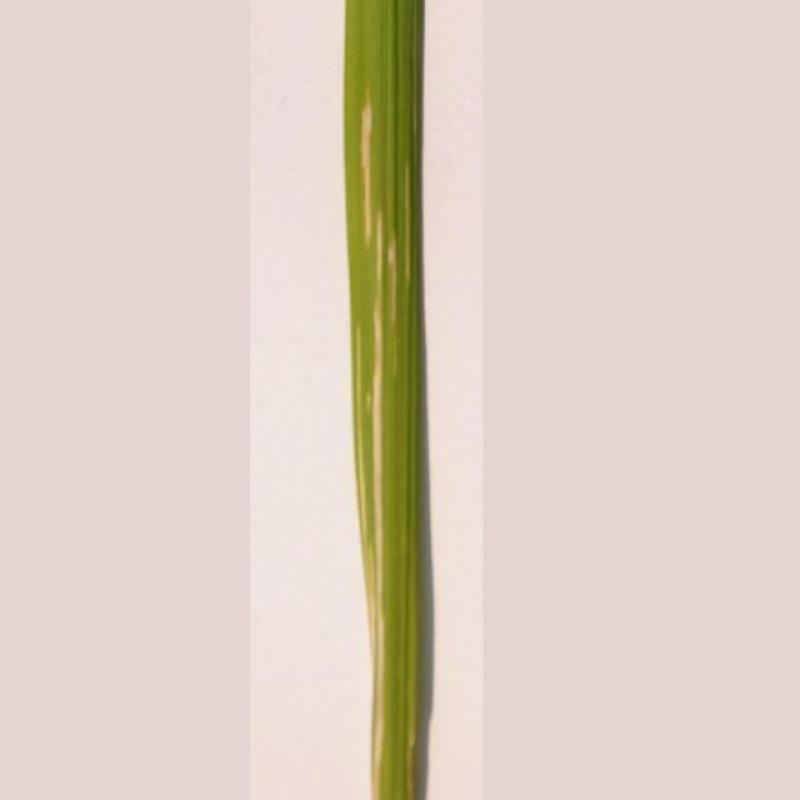Bacterial_Leaf_Blight: (343, 307, 448, 800), (342, 92, 432, 293)
